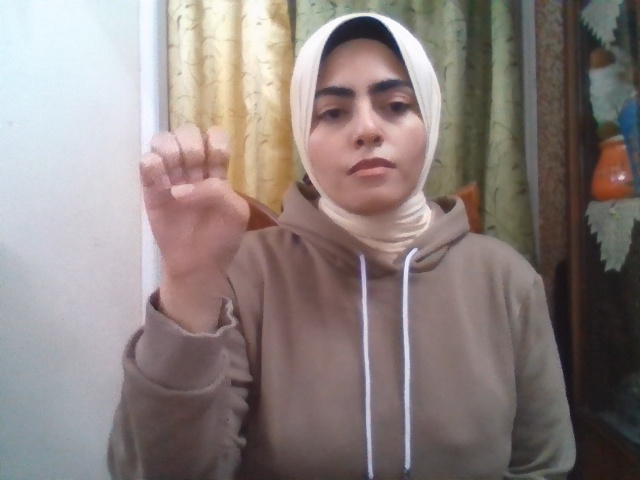E: (139, 124, 250, 280)
